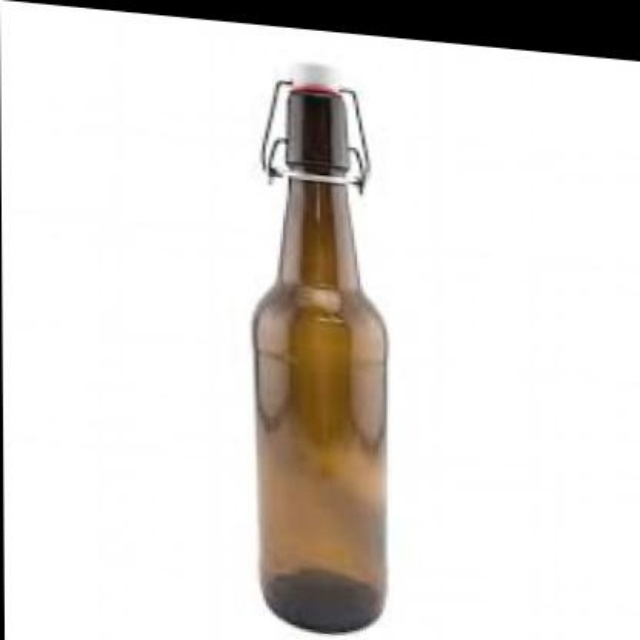trash: (254, 66, 386, 631)
